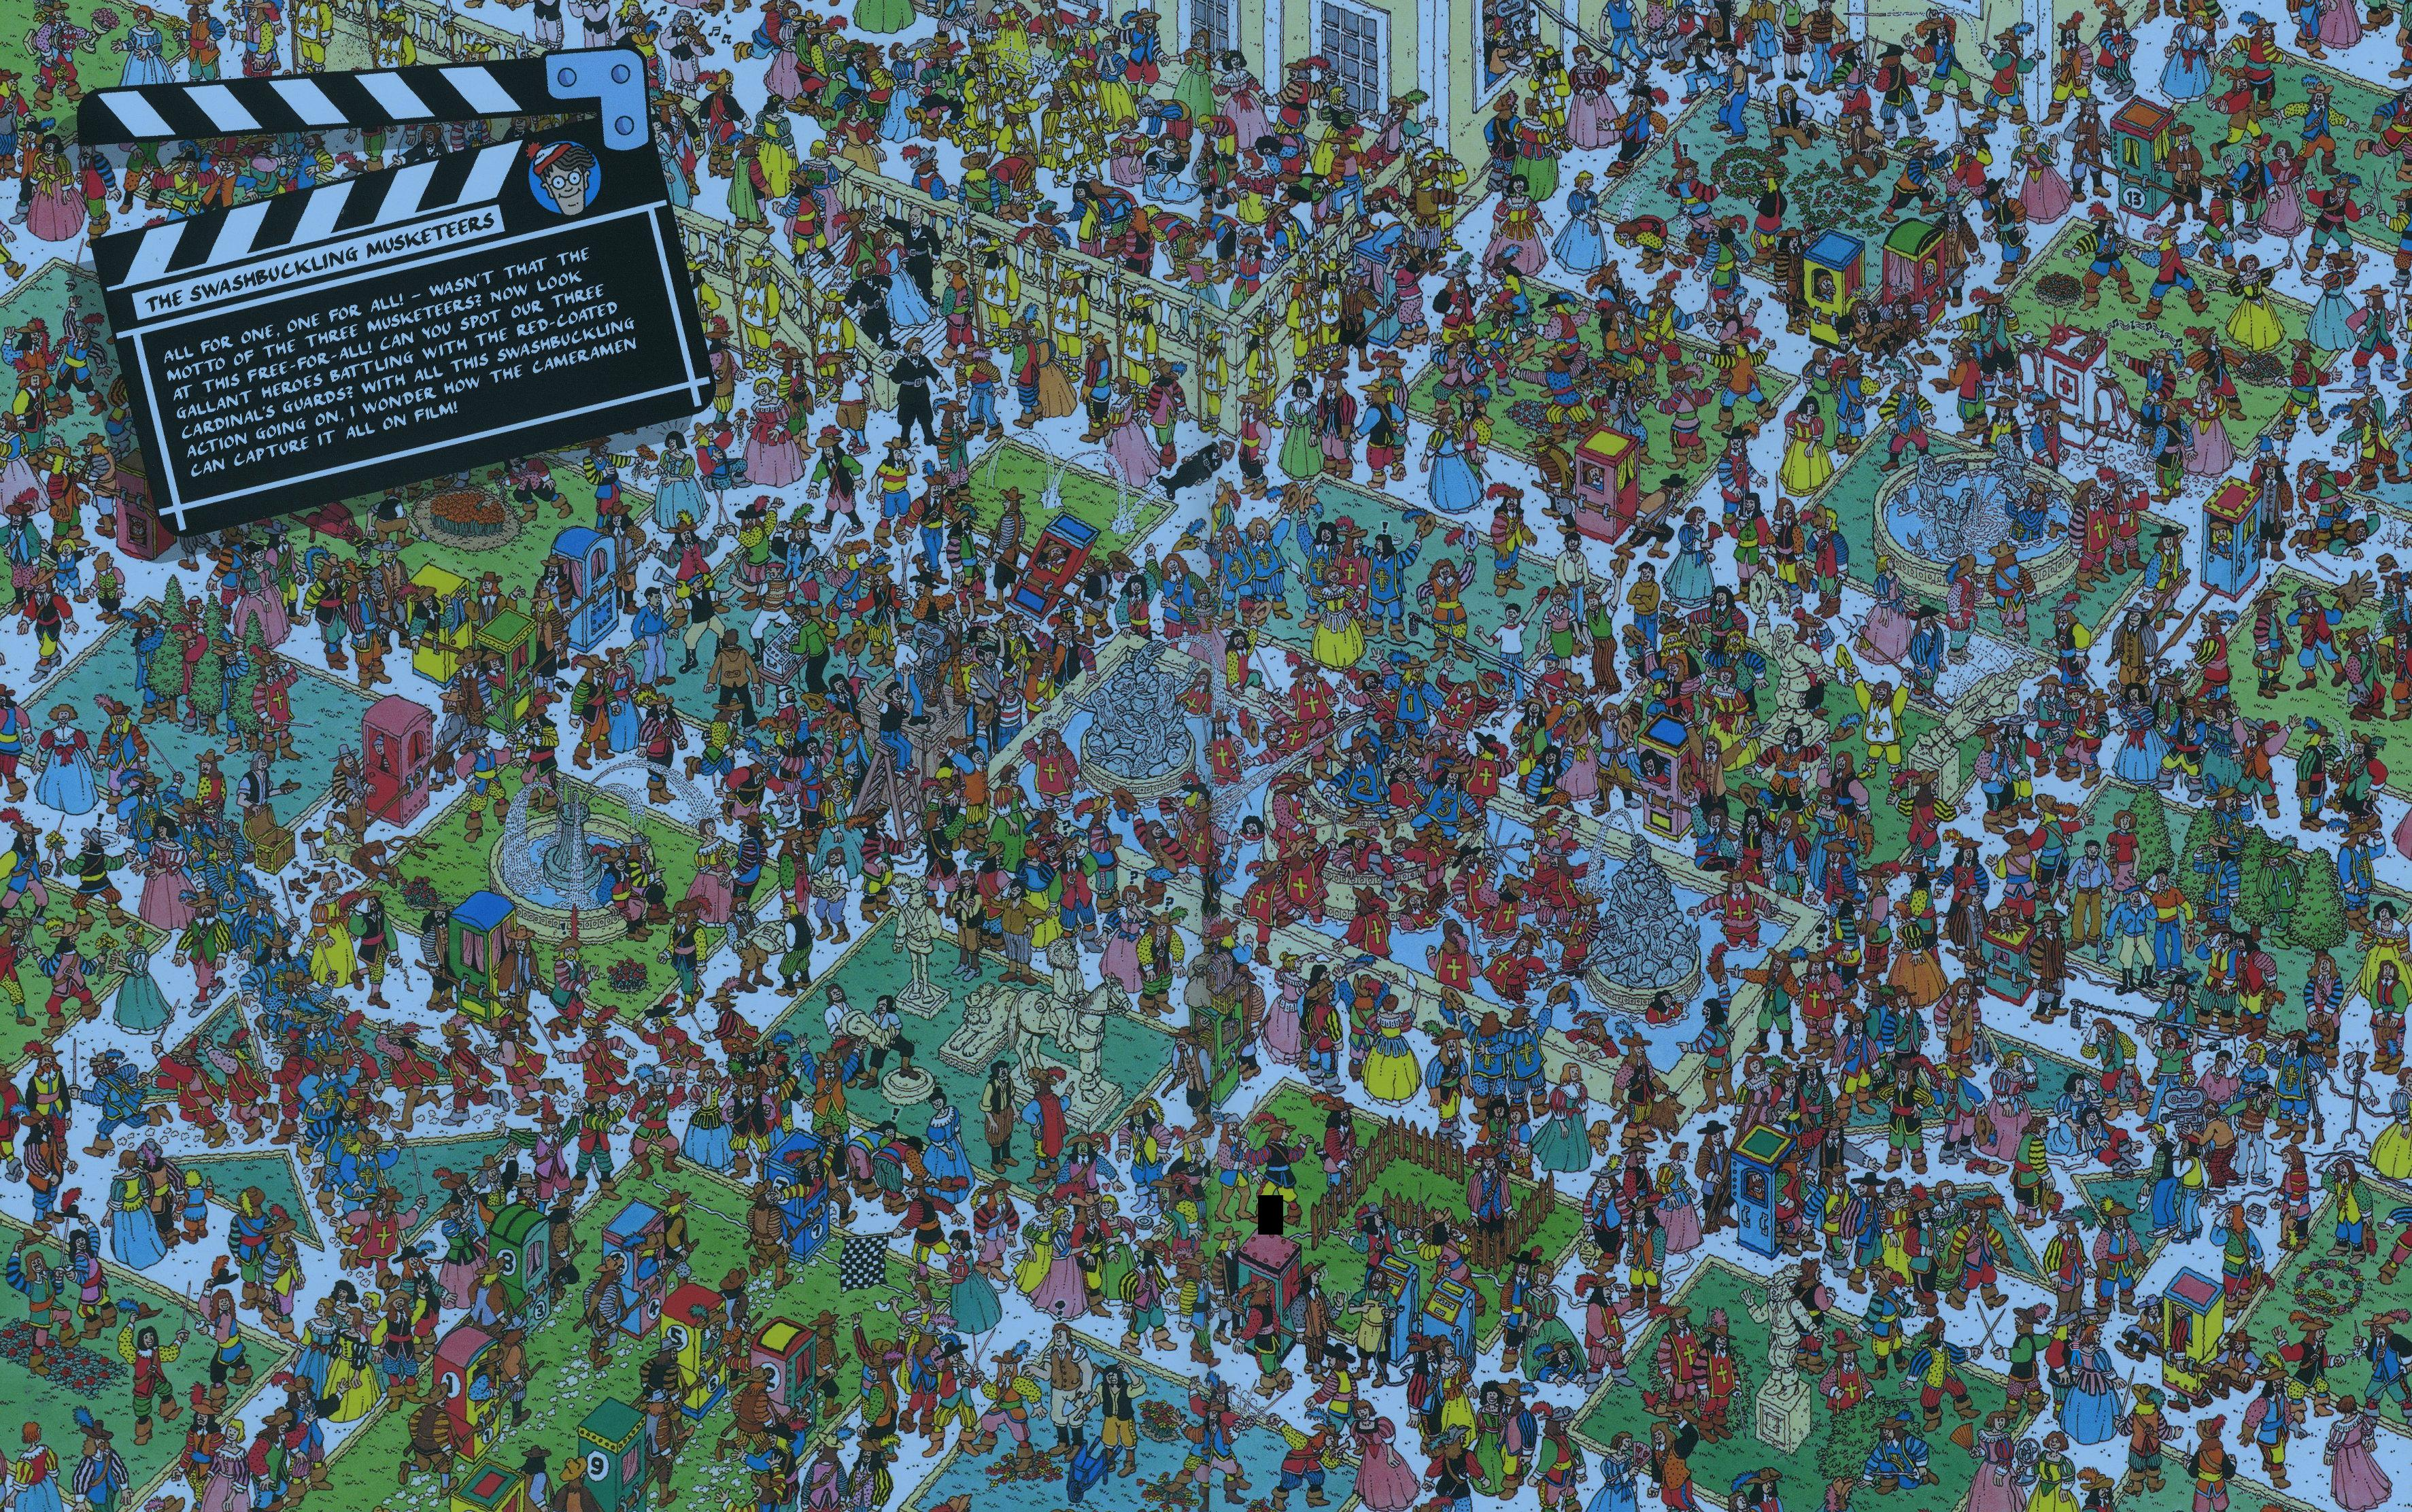waldos: (2064, 1329, 2090, 1369)
